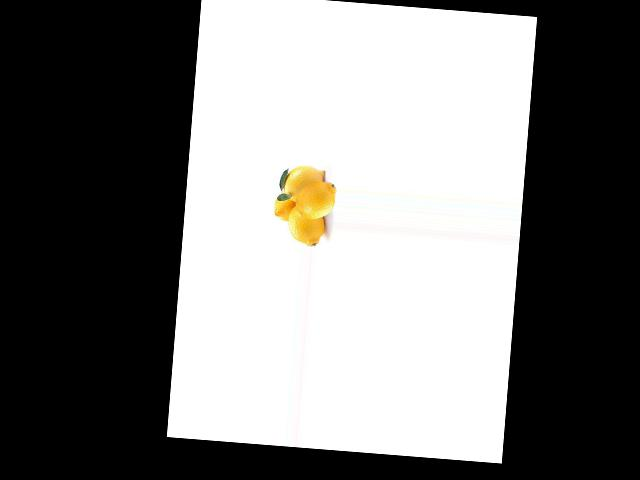lemon: (285, 203, 322, 249)
